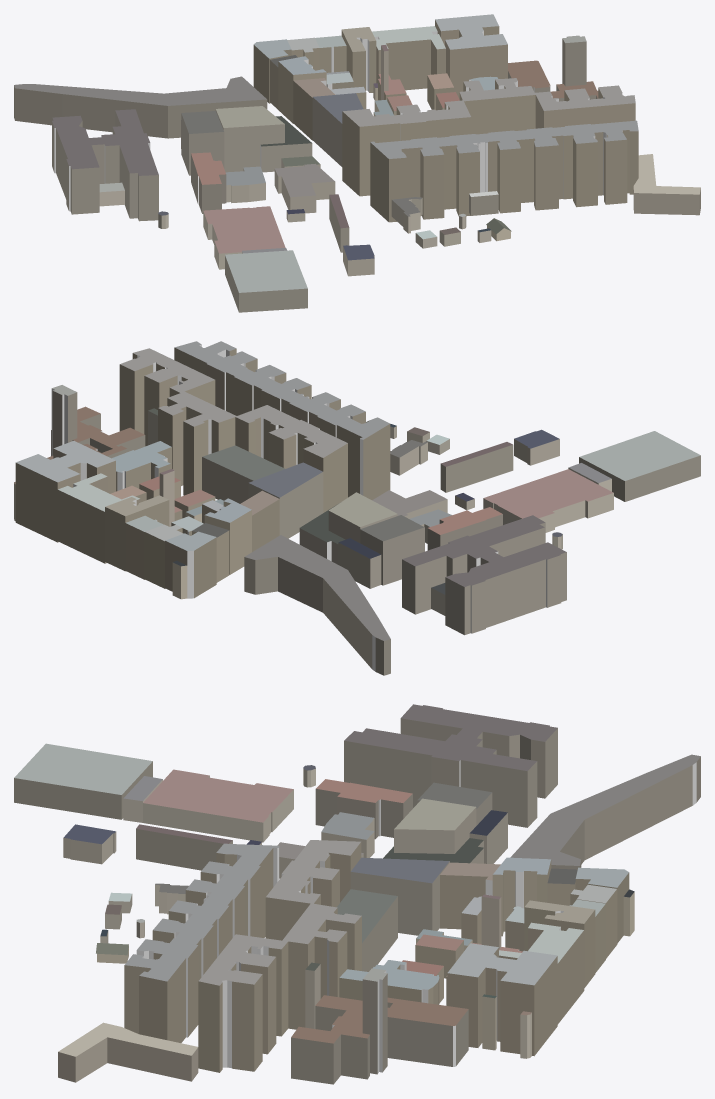
3 views of the same model, one above another, from view 1: azimuth 30°, elevation 25°; view 2: azimuth 150°, elevation 25°; view 3: azimuth 270°, elevation 25° (orthographic). The views are drawn at different scales.
Visible parts, largest first — view 1: tuile; view 2: tuile; view 3: tuile.
Part boxes in pixels (x1,y1,x2,y2): tuile: (14, 14, 700, 312); tuile: (14, 341, 700, 675); tuile: (14, 704, 700, 1084).
Size of the model in its own units: 269 by 41.57 by 250.
